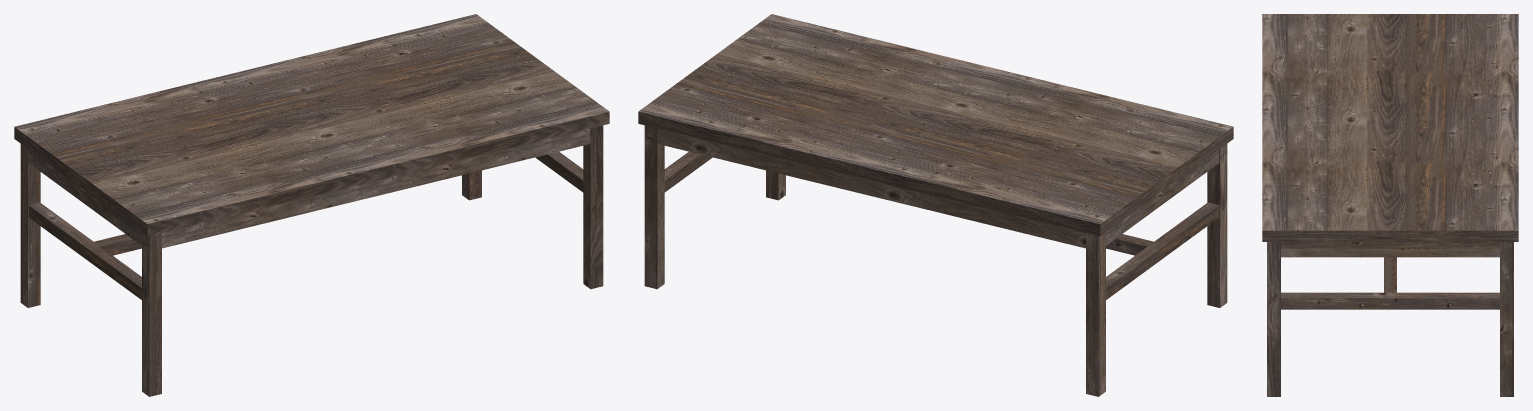
Rendered from TableNew.fbx.
3 renders of one model, left to right at view 1: azimuth 30°, elevation 25°; view 2: azimuth 150°, elevation 25°; view 3: azimuth 270°, elevation 25°, orthographic. The views are drawn at different scales.
Visible parts, largest first — view 1: Cube.001; view 2: Cube.001; view 3: Cube.001.
Boxes of the visible parts, x1,y1,x2,y2 form: Cube.001: [14, 14, 609, 396]; Cube.001: [638, 14, 1233, 396]; Cube.001: [1262, 14, 1518, 396].
Bounding box in the file's own units: 1000 × 363 × 500.
